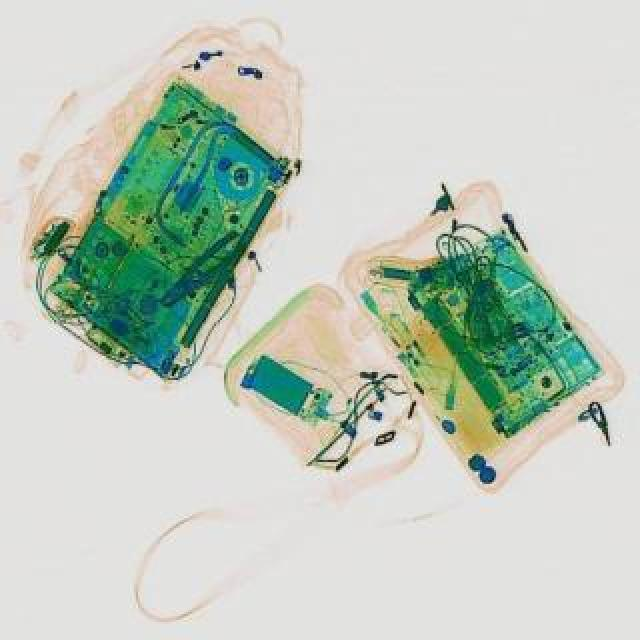wrench: (148, 226, 252, 316)
